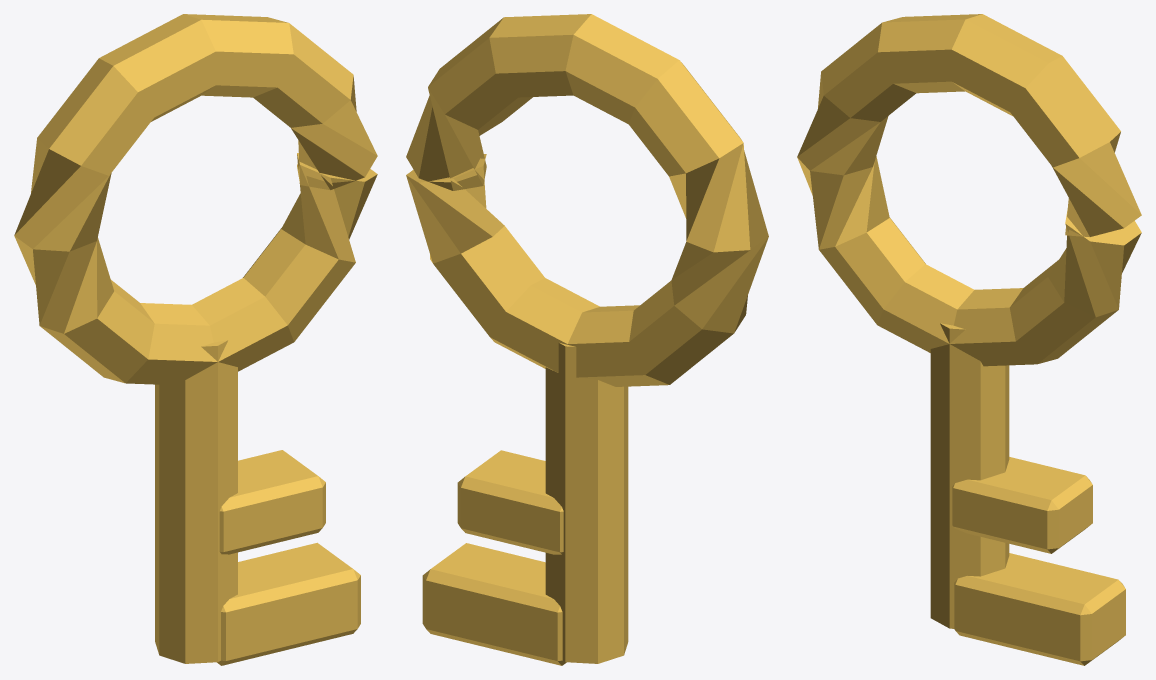
Rendered from key.glb.
3 renders of one model, left to right at view 1: azimuth 30°, elevation 25°; view 2: azimuth 150°, elevation 25°; view 3: azimuth 330°, elevation 25°, orthographic. The views are drawn at different scales.
Parts seen in each view (by area): view 1: key; view 2: key; view 3: key.
Boxes of the visible parts, x1=… form: key: x1=14, y1=14, x2=377, y2=665; key: x1=406, y1=14, x2=768, y2=665; key: x1=797, y1=14, x2=1141, y2=665.
Size of the model in its own units: 0.2545 by 0.45 by 0.0572.
